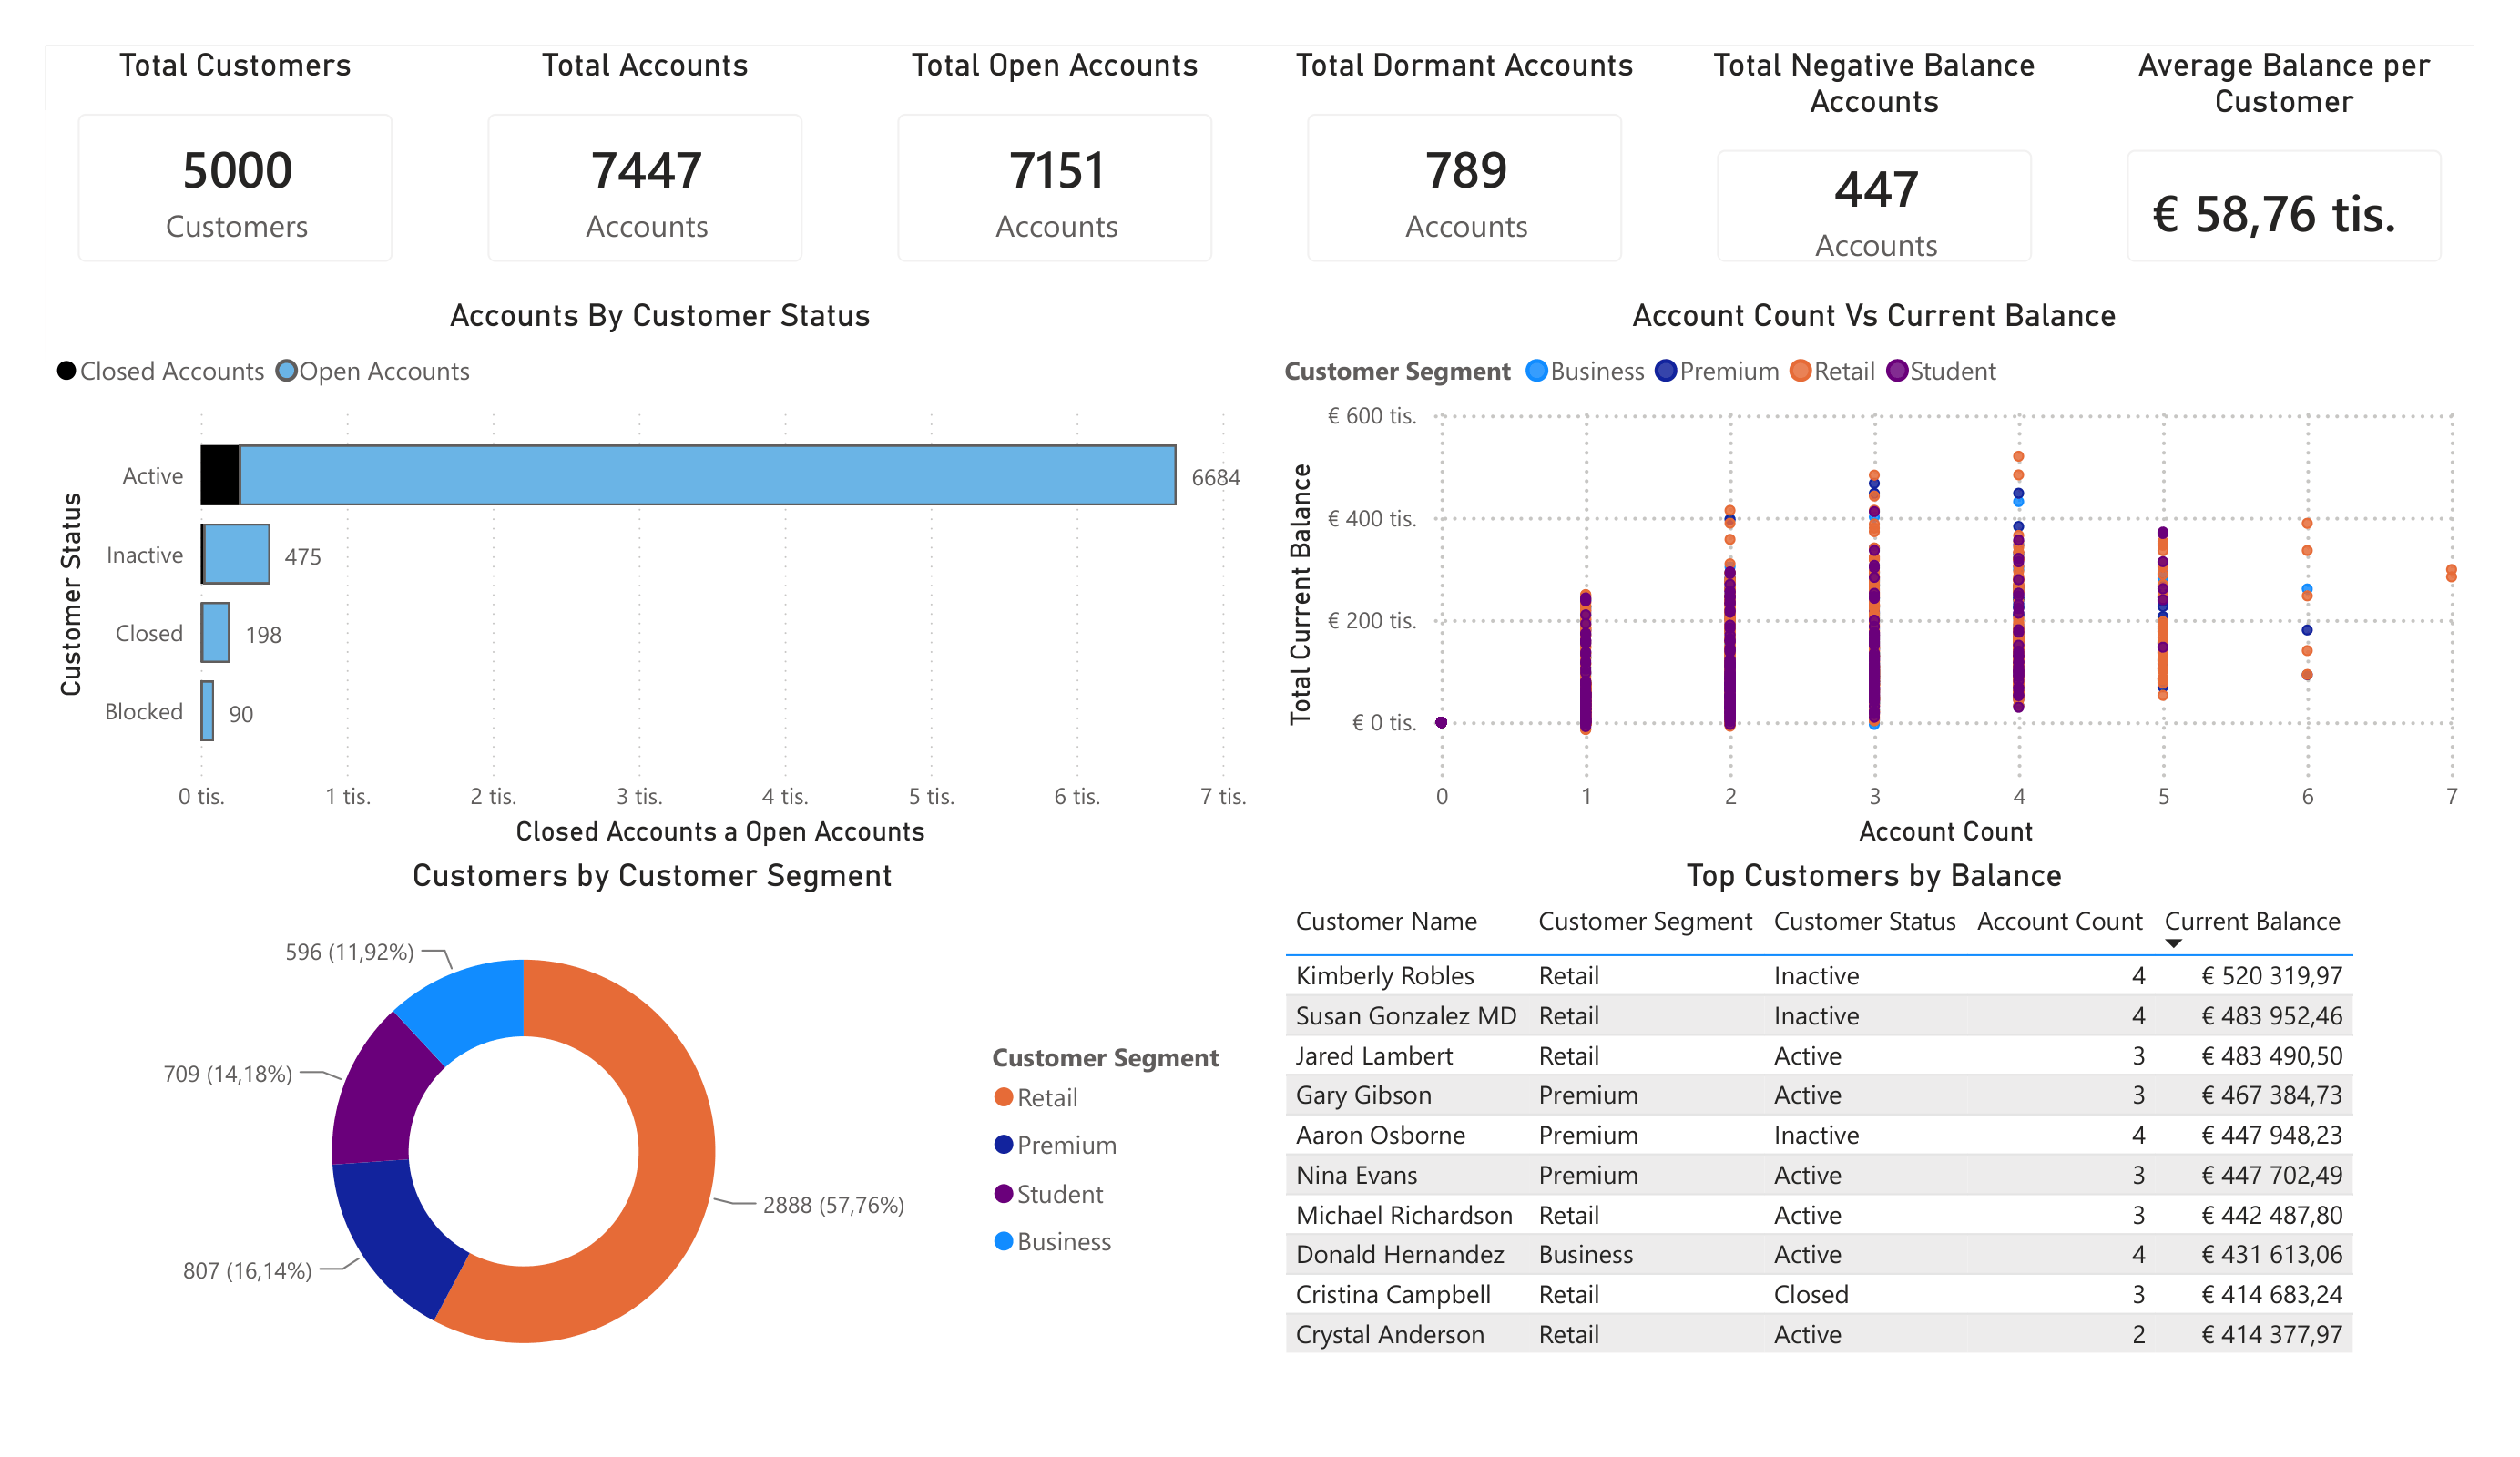

The page's visual inventory and layout, read from the dashboard file:
{"tool":"powerbi","page":{"name":"Customer & Account Portfolio","canvas":[1280,720],"ordinal":1},"visuals":[{"type":"cardVisual","title":"Total Customers","fields":{"Data":["_Measures.Total Customers"]},"box":[0,0,200.3,131.7],"z":0},{"type":"cardVisual","title":"Total Accounts","fields":{"Data":["Sum(customer_account_portfolio.account_count)"]},"box":[216,0,200.3,131.7],"z":1000},{"type":"cardVisual","title":"Total Open Accounts","fields":{"Data":["Sum(customer_account_portfolio.open_account_count)"]},"box":[432,0,200.3,131.7],"z":2000},{"type":"cardVisual","title":"Total Dormant Accounts","fields":{"Data":["_Measures.TotaL Dormant Accounts"]},"box":[648,0,200.3,131.7],"z":3000},{"type":"cardVisual","title":"Total Negative Balance Accounts","fields":{"Data":["Sum(customer_account_portfolio.negative_balance_account_count)"]},"box":[863.9,0,200.3,131.7],"z":4000},{"type":"cardVisual","title":"Average Balance per Customer","fields":{"Data":["_Measures.Average Balance per Customer"]},"box":[1079.7,0,200.3,131.7],"z":5000},{"type":"barChart","title":"Accounts By Customer Status","fields":{"Category":["customer_account_portfolio.customer_status"],"Y":["Sum(customer_account_portfolio.closed_account_count)","Sum(customer_account_portfolio.open_account_count)"]},"box":[0,132.2,648.4,294.6],"z":6000},{"type":"donutChart","title":"Customers by Customer Segment","fields":{"Category":["customer_account_portfolio.customer_segment"],"Y":["CountNonNull(customer_account_portfolio.customer_id)"]},"box":[0,426.8,640.1,293.2],"z":7000},{"type":"scatterChart","title":"Account Count Vs Current Balance","fields":{"X":["Sum(customer_account_portfolio.account_count)"],"Y":["Sum(customer_account_portfolio.total_current_balance)"],"Series":["customer_account_portfolio.customer_segment"],"Category":["customer_account_portfolio.customer_id"]},"box":[648.4,132.2,631.9,294.6],"z":7001},{"type":"tableEx","title":"Top Customers by Balance","fields":{"Values":["customer_account_portfolio.customer_name","customer_account_portfolio.customer_segment","customer_account_portfolio.customer_status","Sum(customer_account_portfolio.account_count)","Sum(customer_account_portfolio.total_current_balance)"]},"box":[648,427,632,293],"z":7002}]}

Visuals, with their boxes on the page's 1280x720 design canvas (x1, y1, x2, y2). These are canvas units, not pixel positions in the 2520x1457 screenshot, which may show the page scaled, cropped or inside an application window:
"Total Customers" cardVisual: (left=0, top=0, right=200, bottom=132)
"Total Accounts" cardVisual: (left=216, top=0, right=416, bottom=132)
"Total Open Accounts" cardVisual: (left=432, top=0, right=632, bottom=132)
"Total Dormant Accounts" cardVisual: (left=648, top=0, right=848, bottom=132)
"Total Negative Balance Accounts" cardVisual: (left=864, top=0, right=1064, bottom=132)
"Average Balance per Customer" cardVisual: (left=1080, top=0, right=1280, bottom=132)
"Accounts By Customer Status" barChart: (left=0, top=132, right=648, bottom=427)
"Customers by Customer Segment" donutChart: (left=0, top=427, right=640, bottom=720)
"Account Count Vs Current Balance" scatterChart: (left=648, top=132, right=1280, bottom=427)
"Top Customers by Balance" tableEx: (left=648, top=427, right=1280, bottom=720)
